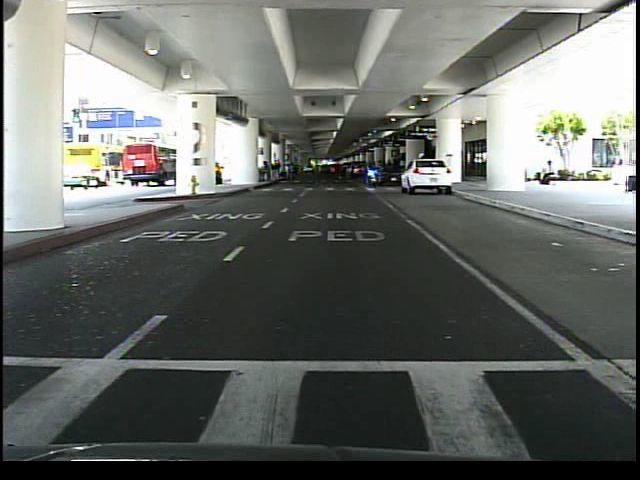person: (533, 155, 561, 192)
